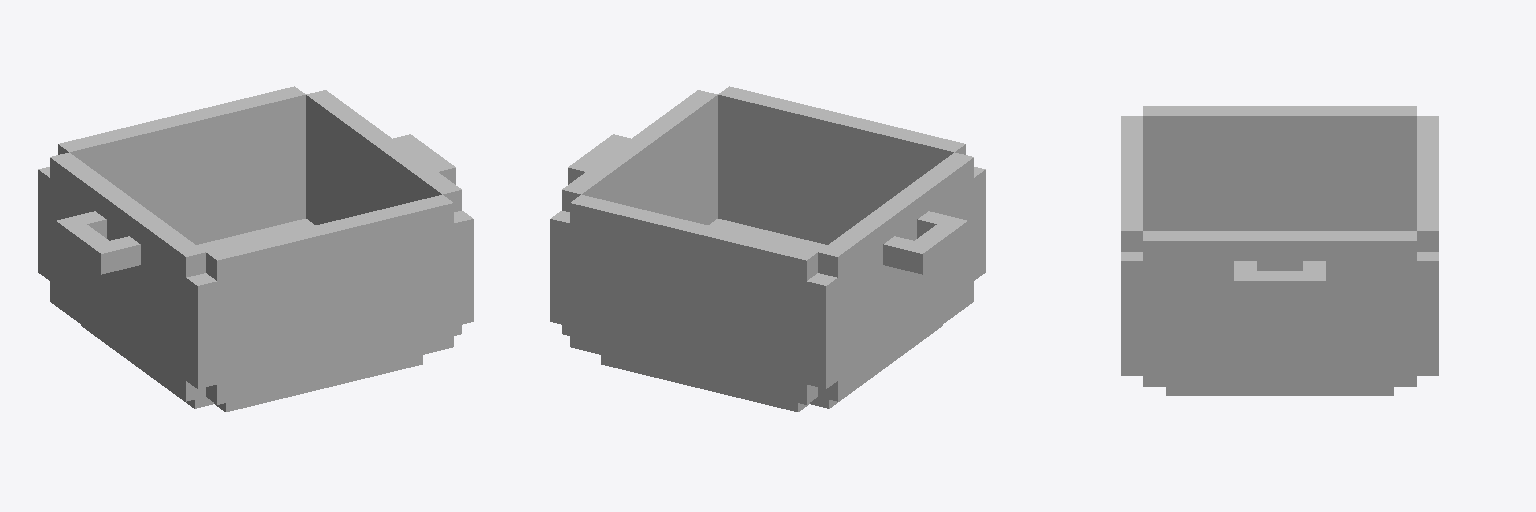
Rendered from KitchenOPEN_Export-36.obj.
The picture shows the model from 3 angles: view 1: azimuth 30°, elevation 25°; view 2: azimuth 150°, elevation 25°; view 3: azimuth 270°, elevation 25°; orthographic projection.
Visible parts, largest first — view 1: KitchenOPEN_Export-36; view 2: KitchenOPEN_Export-36; view 3: KitchenOPEN_Export-36.
Part boxes in pixels (x1,y1,x2,y2): KitchenOPEN_Export-36: (38, 86, 473, 411); KitchenOPEN_Export-36: (550, 86, 985, 411); KitchenOPEN_Export-36: (1121, 106, 1438, 395).
Bounding box in the file's own units: 18 × 8 × 14.